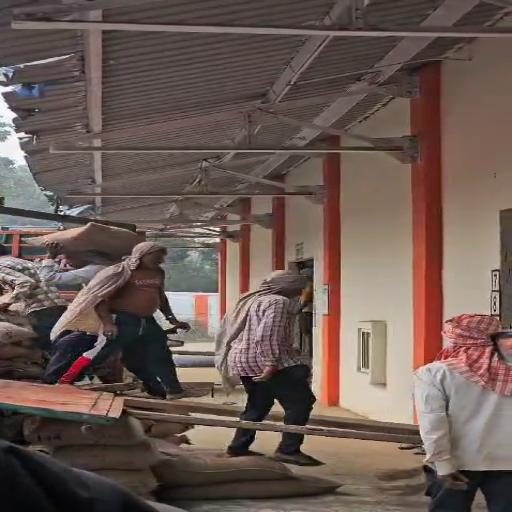bag: (25, 219, 158, 265)
